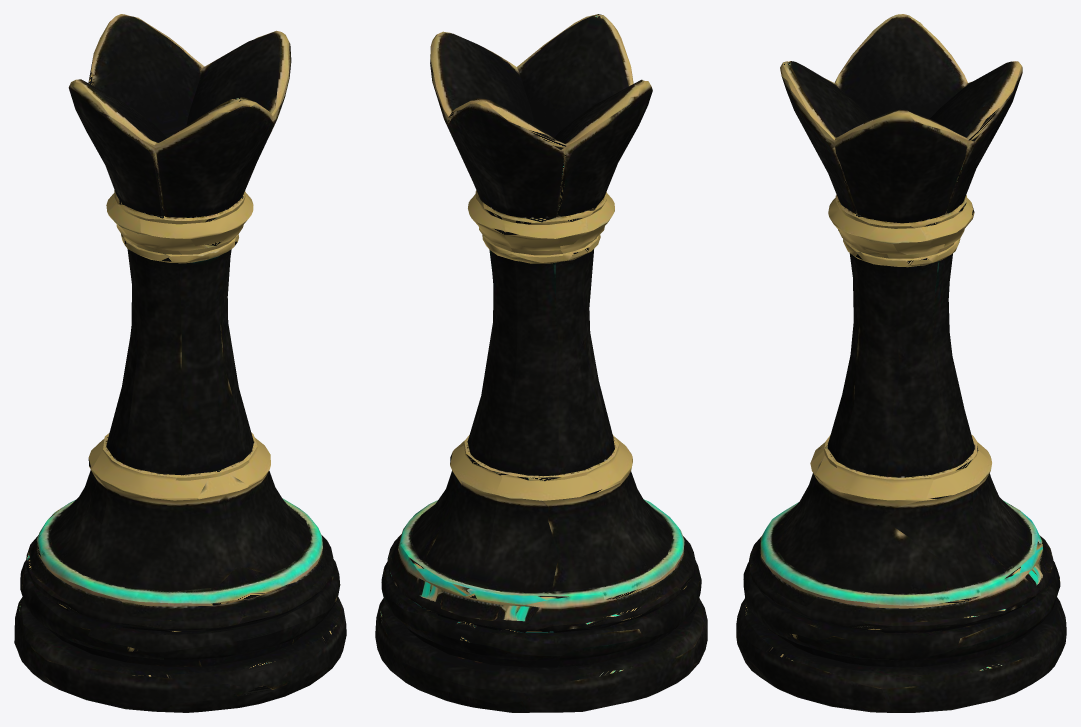
The picture shows the model from 3 angles, left to right: view 1: azimuth 30°, elevation 25°; view 2: azimuth 150°, elevation 25°; view 3: azimuth 270°, elevation 25°; orthographic projection.
Visible parts, largest first — view 1: world; view 2: world; view 3: world.
Boxes of the visible parts, left/top/right/bottom form: world: left=14, top=14, right=346, bottom=712; world: left=375, top=14, right=707, bottom=712; world: left=736, top=14, right=1066, bottom=712.
Size of the model in its own units: 0.5152 by 1 by 0.5153.
1 material, 1 textured.
